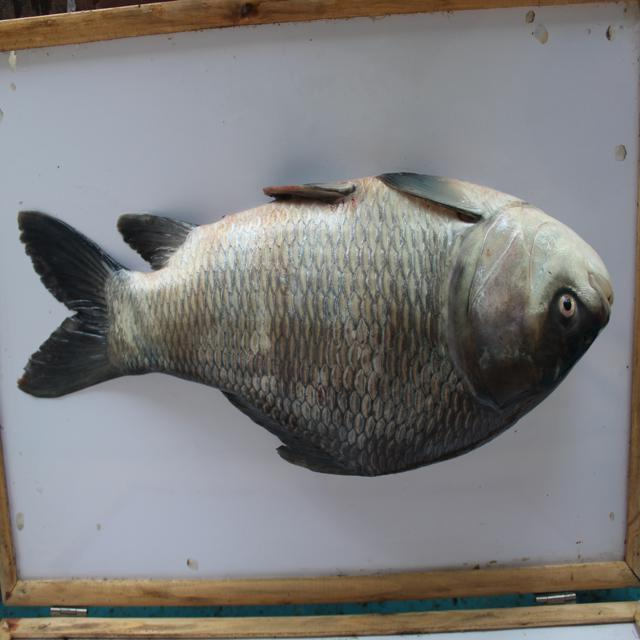Catla: (8, 170, 621, 483)
